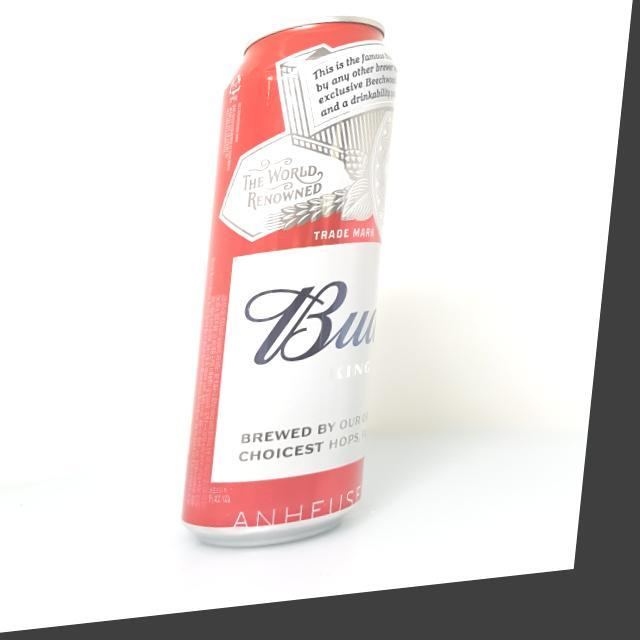beer-can: (187, 16, 413, 561)
